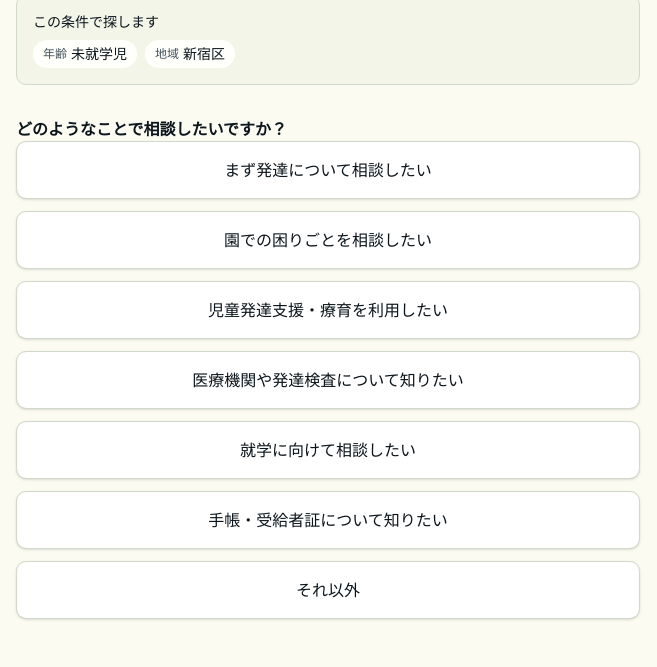
PurposeSelectionForm の「それ以外」AIピックアップフロー › 「それ以外」→ テキスト入力 →「送信内容を確認」で、プレビュー画面に入力テキストが表示される
(page scrolled)
Click the button "それ以外" at [328, 590], box [16,561,640,619]
(page scrolled)
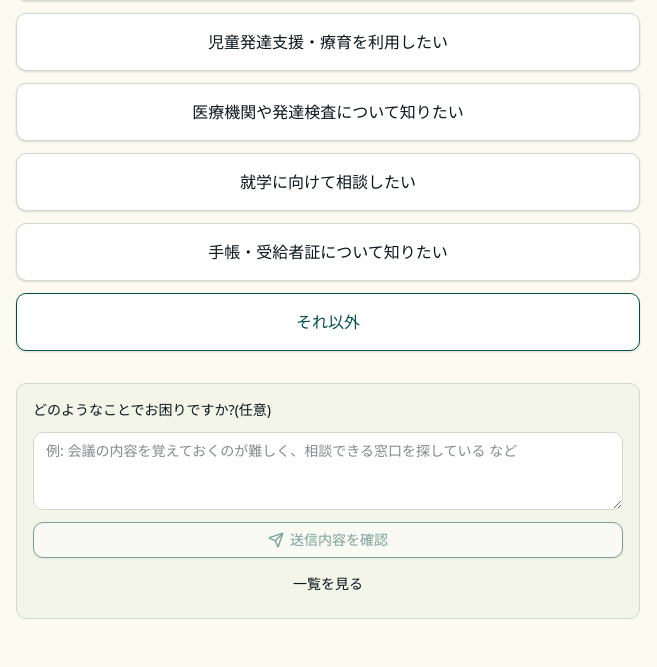
Type "会議の内容を覚えておくのが難しい" into the text box at [328, 471], box [33,432,623,510]
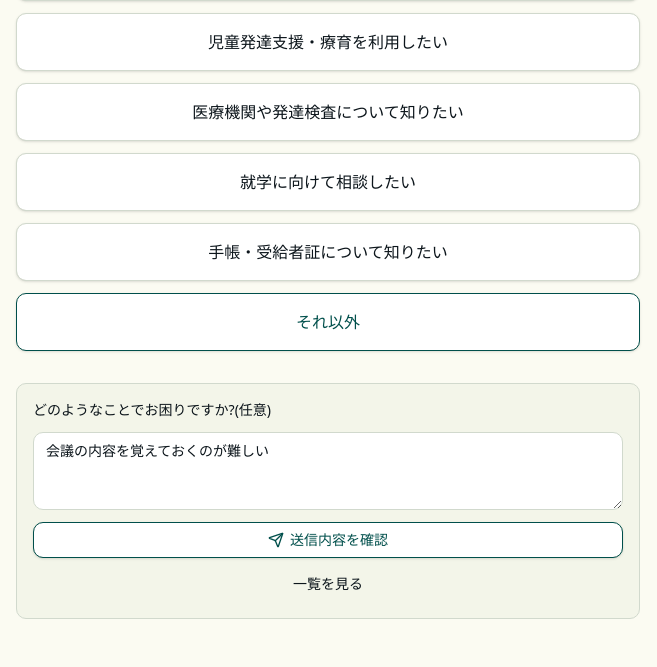
Click the button "送信内容を確認" at [328, 540], box [33,522,623,558]
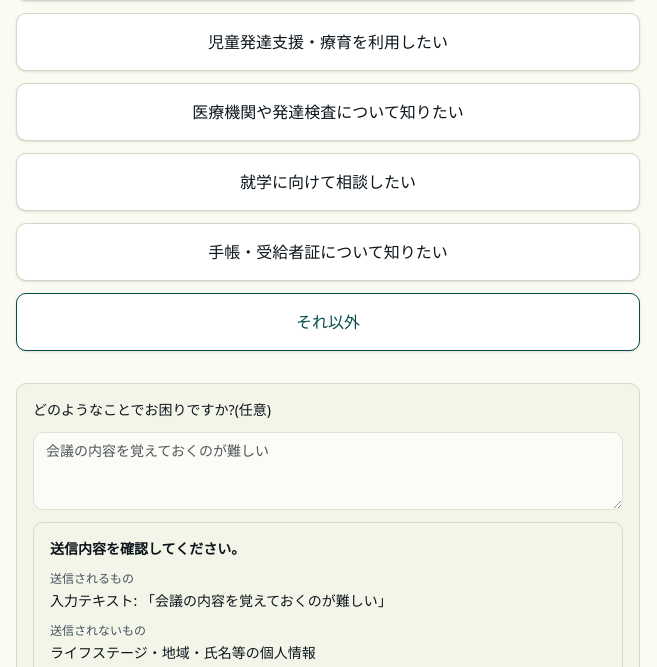
Expected: the text "送信内容を確認してください。" is shown, [50,539,245,558]
Expected: the text "入力テキスト: 「会議の内容を覚えておくのが難しい」" is shown, [50,591,392,610]
